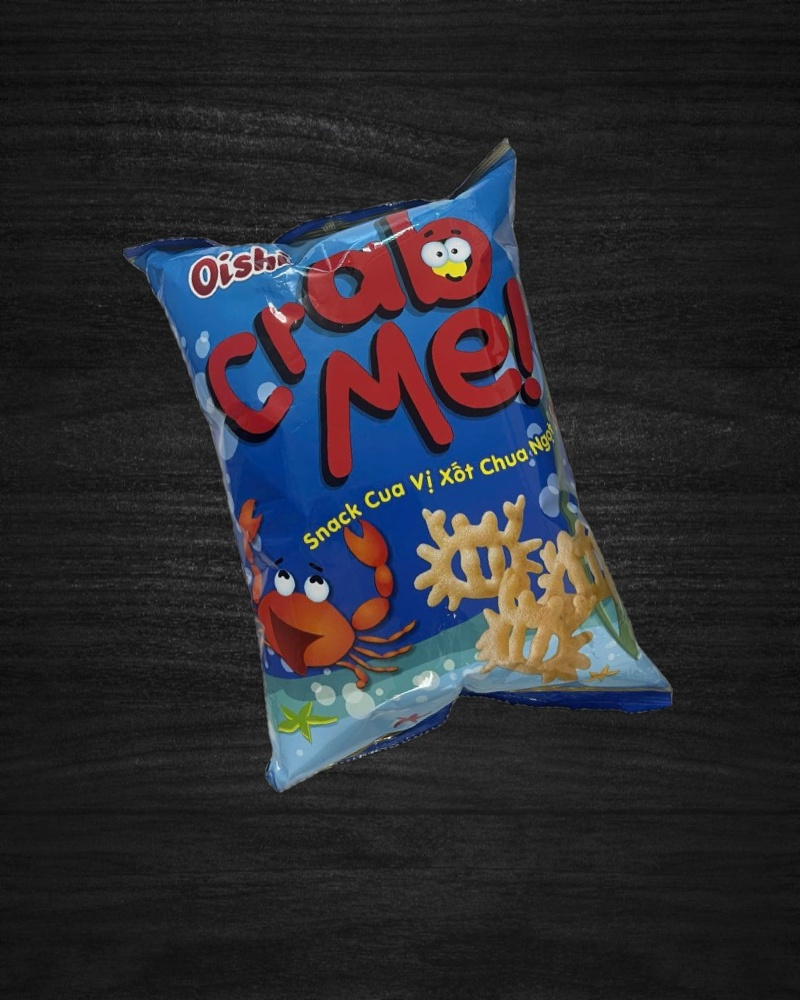Snack cua: (120, 133, 676, 807)
